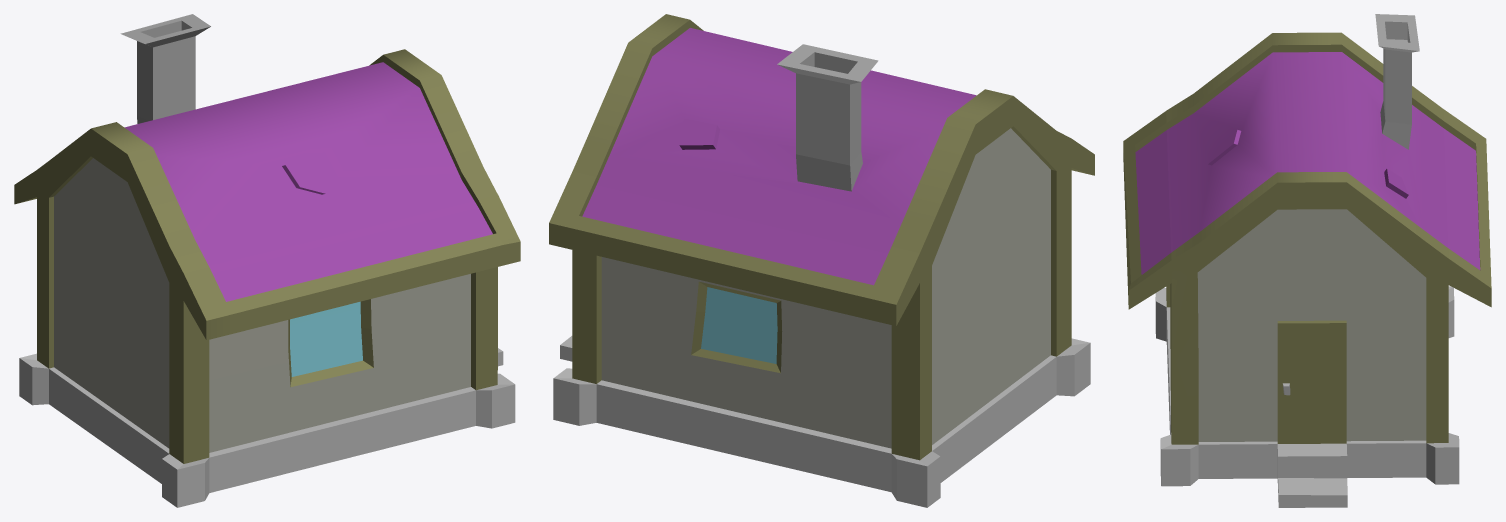
Rendered from House.fbx.
The picture shows the model from 3 angles, left to right: view 1: azimuth 30°, elevation 25°; view 2: azimuth 150°, elevation 25°; view 3: azimuth 270°, elevation 25°; orthographic projection. The views are drawn at different scales.
Parts seen in each view (by area): view 1: house; view 2: house; view 3: house.
Boxes of the visible parts, bbox=[...] form: house: bbox=[14, 14, 520, 507]; house: bbox=[549, 14, 1094, 507]; house: bbox=[1123, 14, 1491, 507].
Bounding box in the file's own units: 8 × 7.01 × 6.69.
